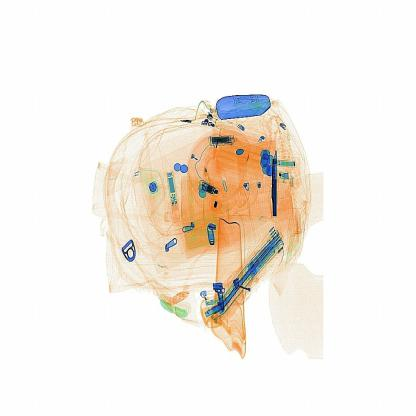pliers: (264, 148, 294, 218)
